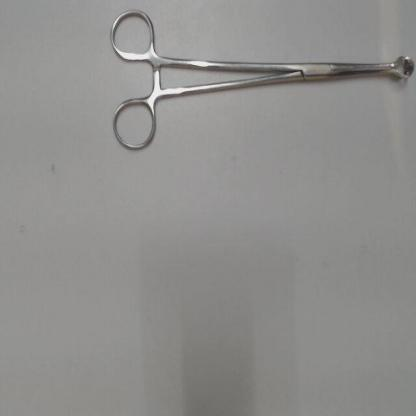8 Babcock Tissue Forceps: (107, 5, 415, 159)
